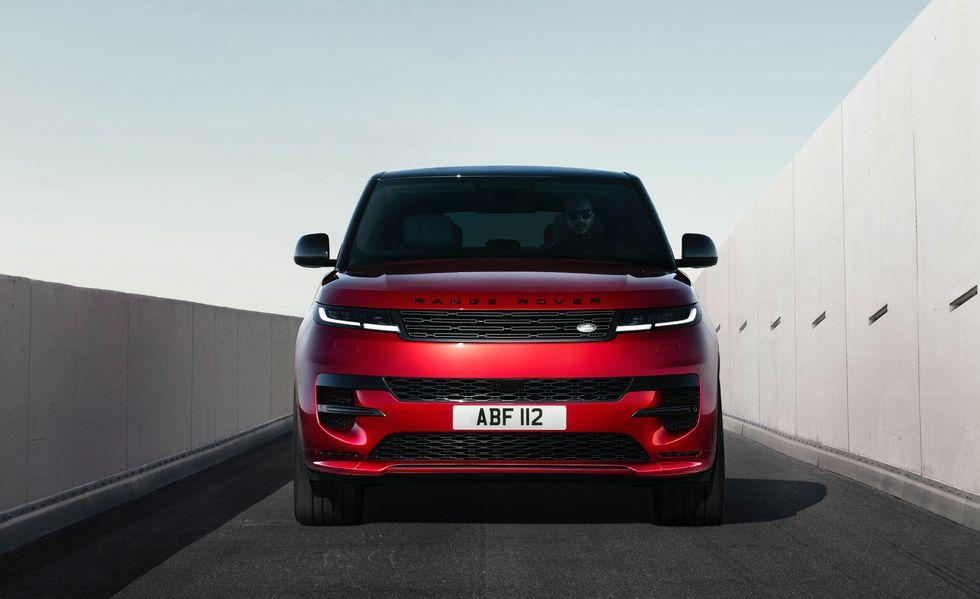range rover: (410, 290, 616, 310)
